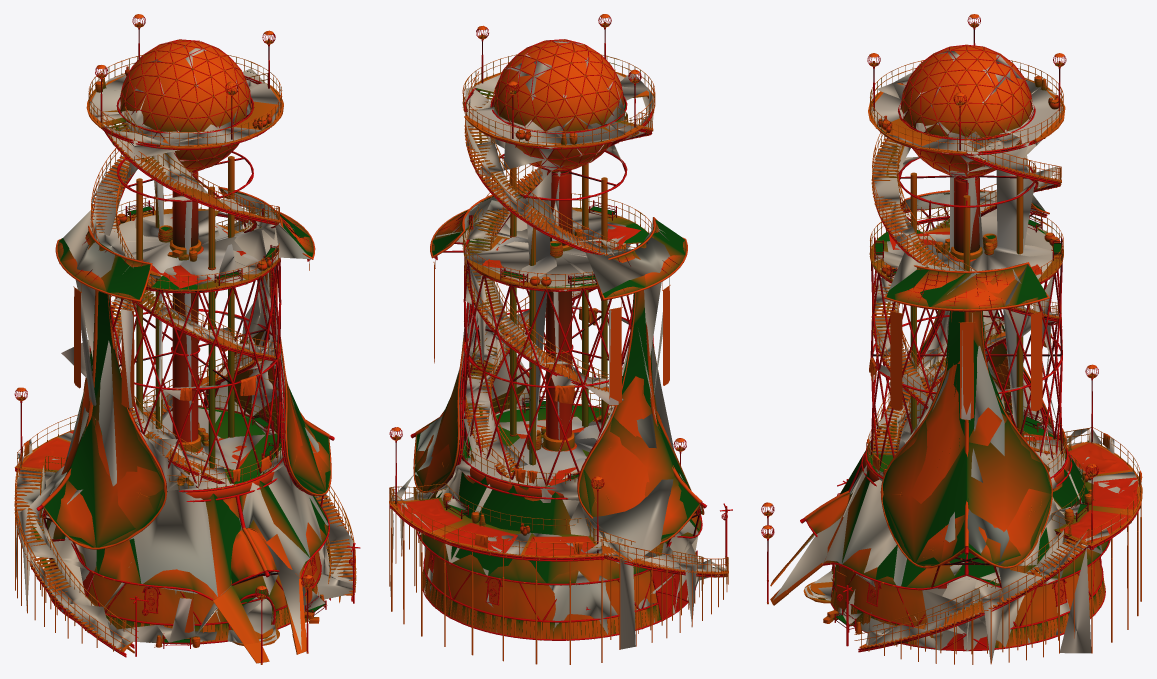
The model's file is KB3D_GAE_BldgLG_J.glb.
3 views of the same model, side by side, from view 1: azimuth 30°, elevation 25°; view 2: azimuth 150°, elevation 25°; view 3: azimuth 270°, elevation 25° (orthographic).
Visible parts, largest first — view 1: L0, L2, L1; view 2: L0, L2, L1; view 3: L0, L2, L1.
Part boxes in pixels (<box>): L0: <box>14,14,360,664</box>; L2: <box>16,41,356,650</box>; L1: <box>14,20,356,651</box>; L0: <box>389,14,732,664</box>; L2: <box>390,40,726,649</box>; L1: <box>389,18,728,641</box>; L0: <box>761,14,1142,664</box>; L2: <box>773,44,1138,662</box>; L1: <box>762,17,1142,659</box>.
Bounding box in the file's own units: 25.96 × 45.87 × 28.77.
